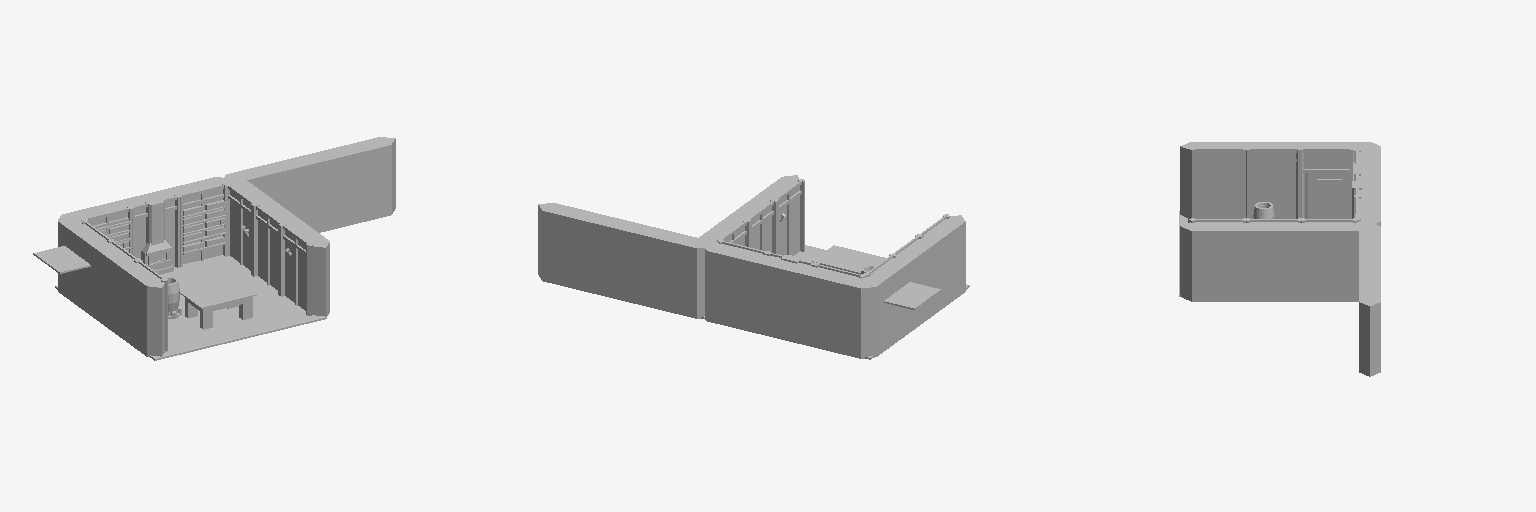
The model's file is herb table.obj.
3 renders of one model, left to right at view 1: azimuth 30°, elevation 25°; view 2: azimuth 150°, elevation 25°; view 3: azimuth 270°, elevation 25°, orthographic.
Parts seen in each view (by area): view 1: mergedBlocks; view 2: mergedBlocks; view 3: mergedBlocks.
Boxes of the visible parts, box(x1,y1,x2,y2) form: mergedBlocks: box(33, 137, 395, 360); mergedBlocks: box(538, 175, 969, 359); mergedBlocks: box(1179, 142, 1380, 376).
Size of the model in its own units: 22.47 by 4.8 by 10.66.